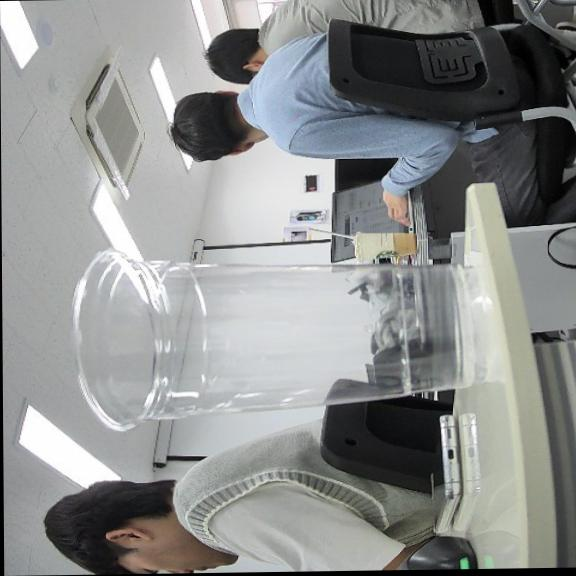Plastik: (73, 249, 485, 429)
